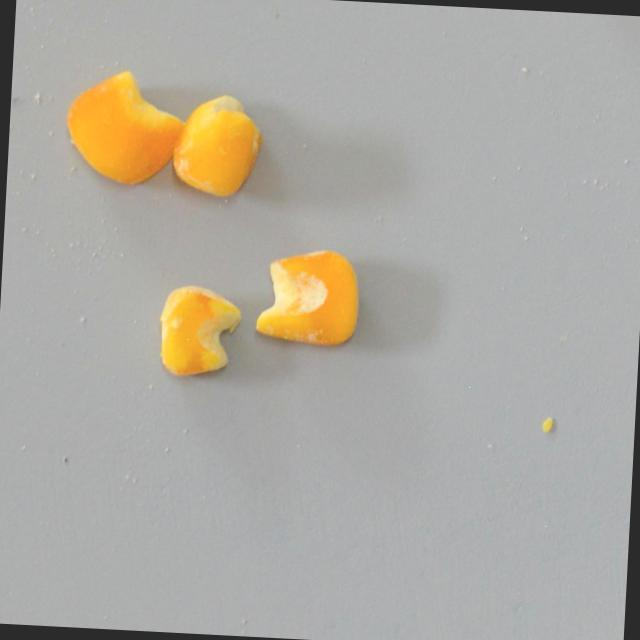no_canjicado: (60, 68, 186, 191), (171, 88, 266, 202)
pelicula: (256, 244, 363, 348), (158, 284, 243, 379)
